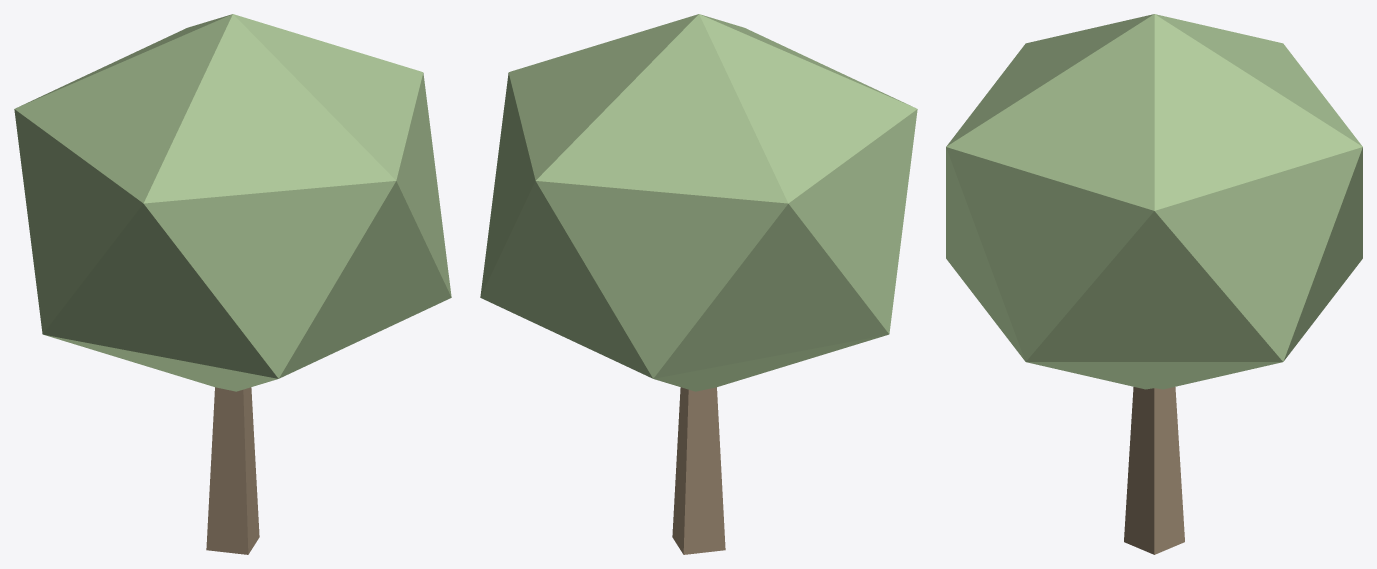
File: willow_lod.glb
The picture shows the model from 3 angles, left to right: view 1: azimuth 30°, elevation 25°; view 2: azimuth 150°, elevation 25°; view 3: azimuth 270°, elevation 25°; orthographic projection.
Parts seen in each view (by area): view 1: willow_lod; view 2: willow_lod; view 3: willow_lod.
Part boxes in pixels (x1,y1,x2,y2): willow_lod: (14, 14, 451, 554); willow_lod: (480, 14, 917, 554); willow_lod: (946, 14, 1362, 554).
Bounding box in the file's own units: 6.44 × 8.56 × 6.12.
